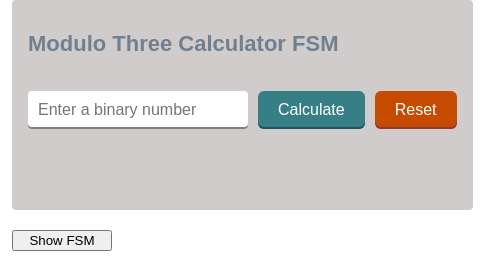
ModThreeCalculator › resets the form when Reset button is clicked
Type "1010" into the field with placeholder "Enter a binary number".
click(138, 110); type("1010")  # box [28,92,248,130]
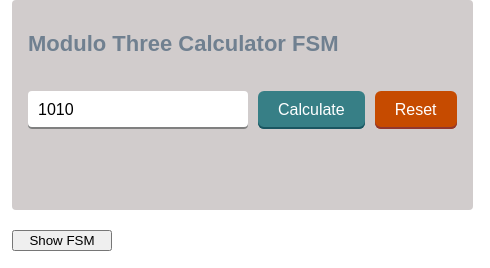
Click the button "Calculate".
click(311, 110)  # box [258,92,365,130]
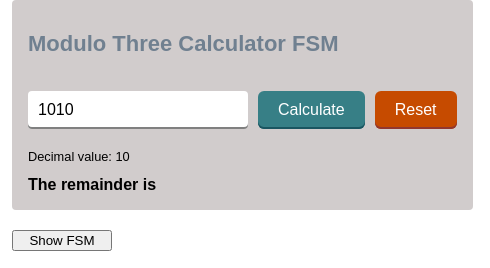
Click the button "Reset".
click(416, 110)  # box [375,92,456,130]
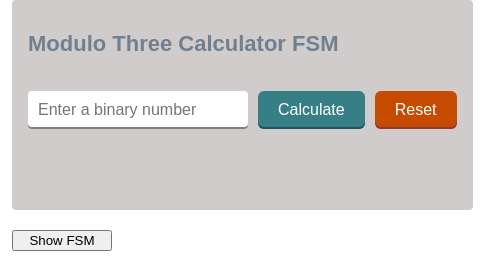
Expected: the field with placeholder "Enter a binary number" is empty, [28,92,248,130]
Expected: the text "Decimal value:" is gone
Expected: the text "The remainder is" is gone
